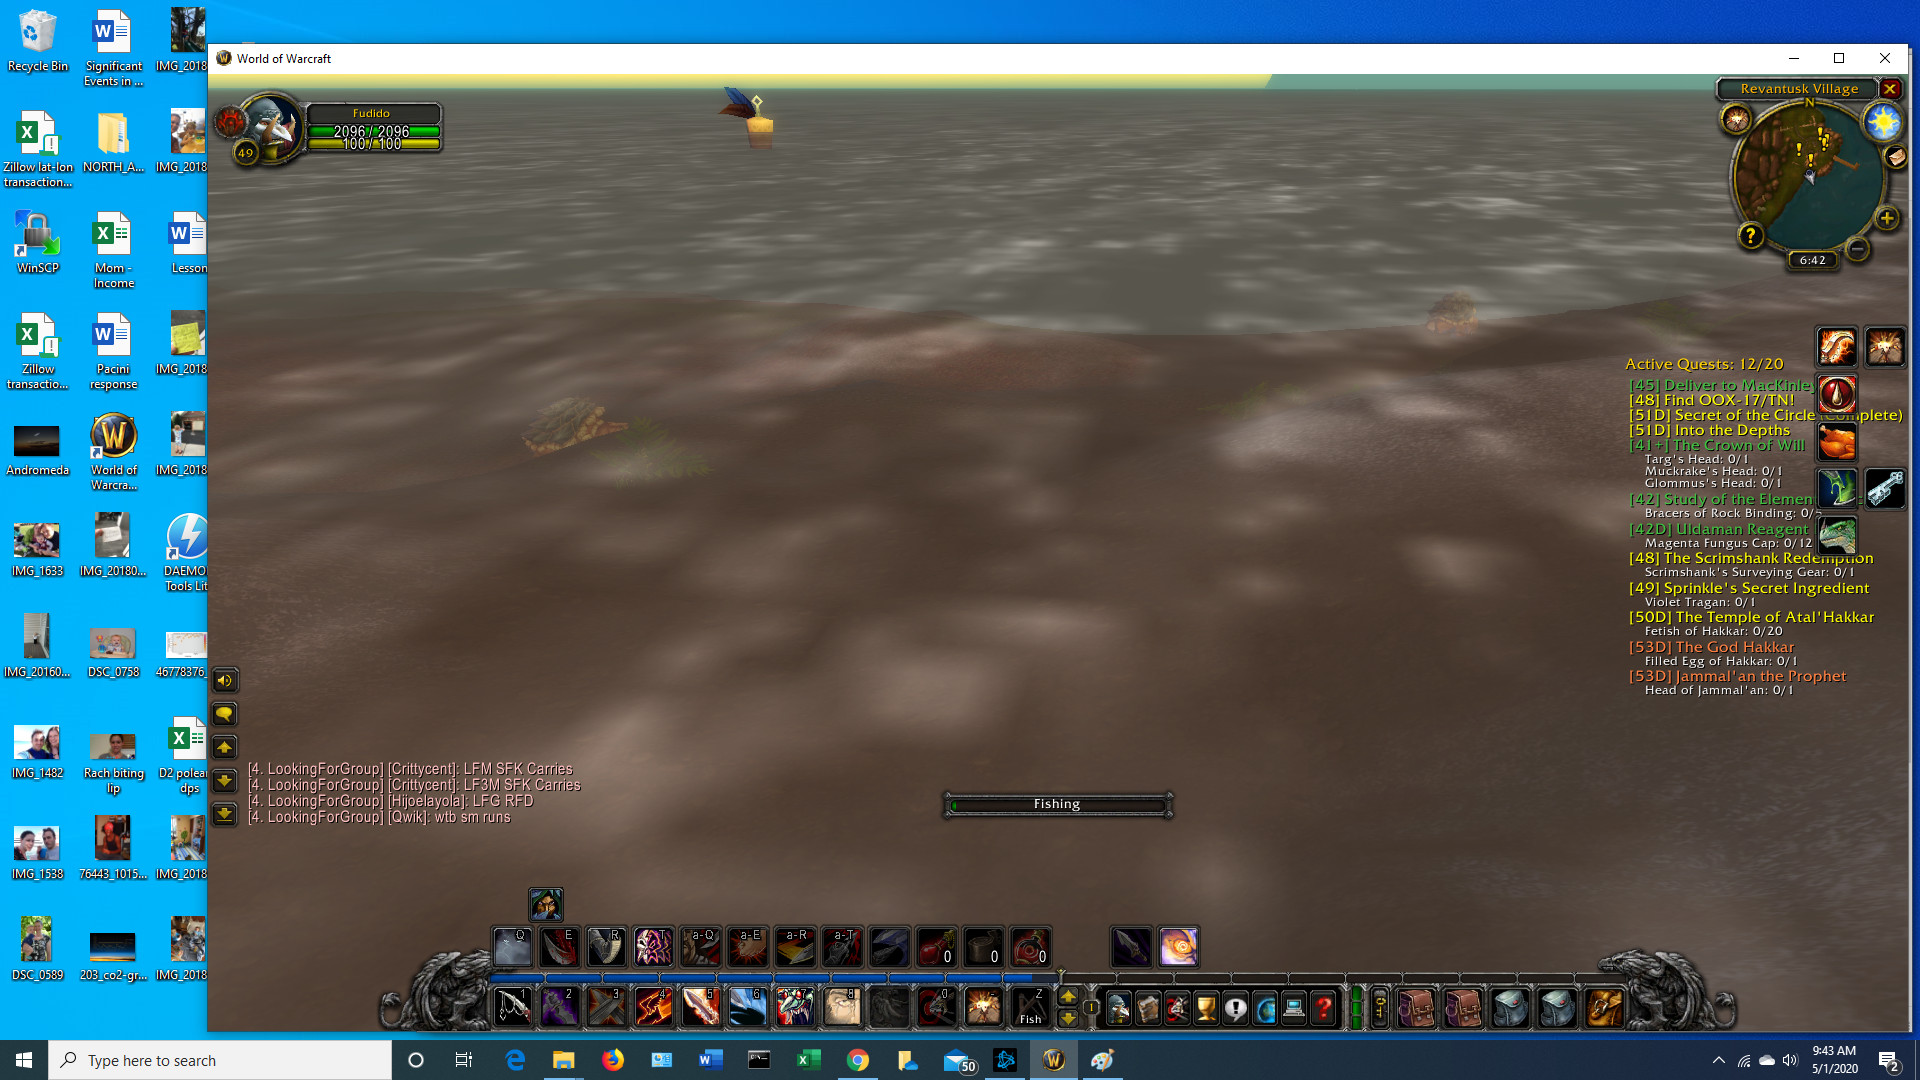bobble: (717, 83, 787, 156)
